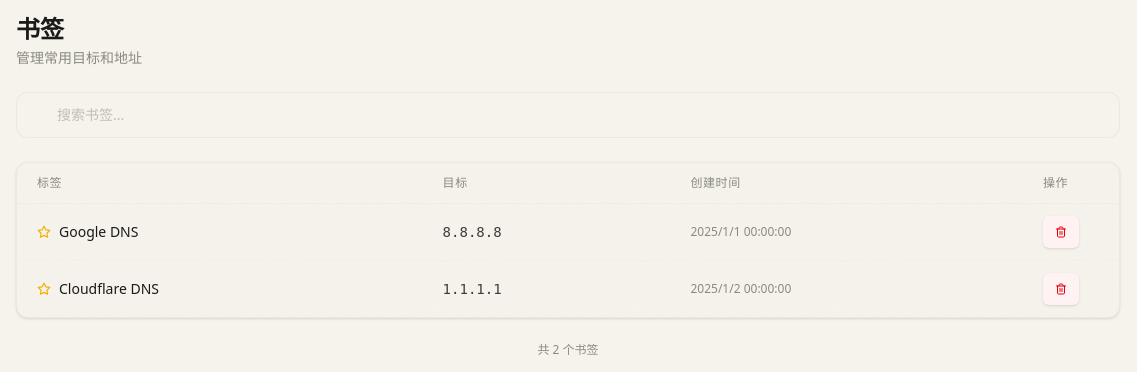
Test: BookmarksPage › filters bookmarks by search query (target match)
In the field with placeholder "搜索书签...": {"x": 568, "y": 115} x1=16 y1=92 x2=1120 y2=138, type "1.1.1.1"
Wait 300 ms
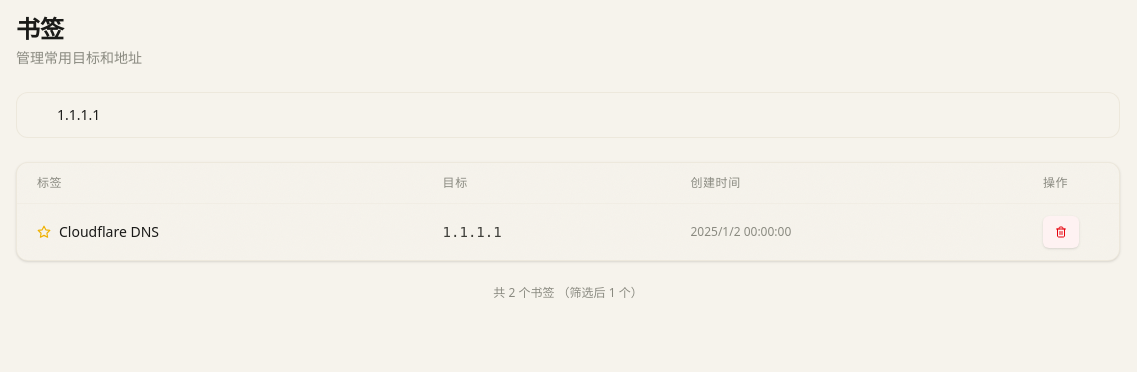
Expected: the text "Cloudflare DNS" is shown, x1=59 y1=222 x2=159 y2=242
Expected: the text "Google DNS" is gone
